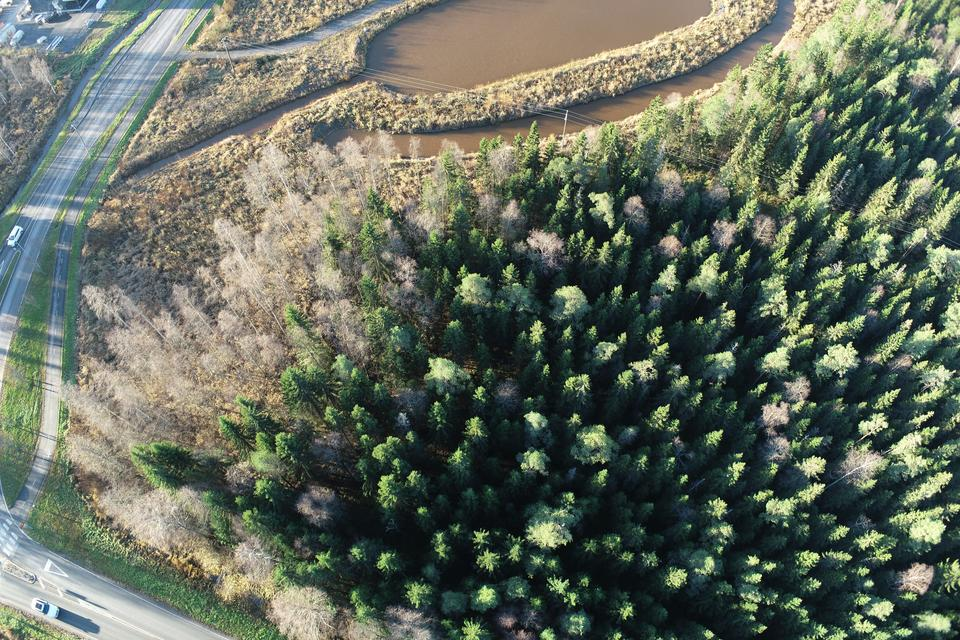intersection: (0, 464, 55, 640), (67, 27, 219, 74)
